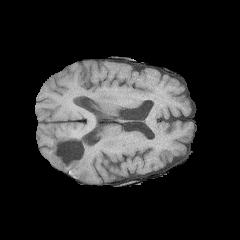glioma: (52, 135, 100, 179)
